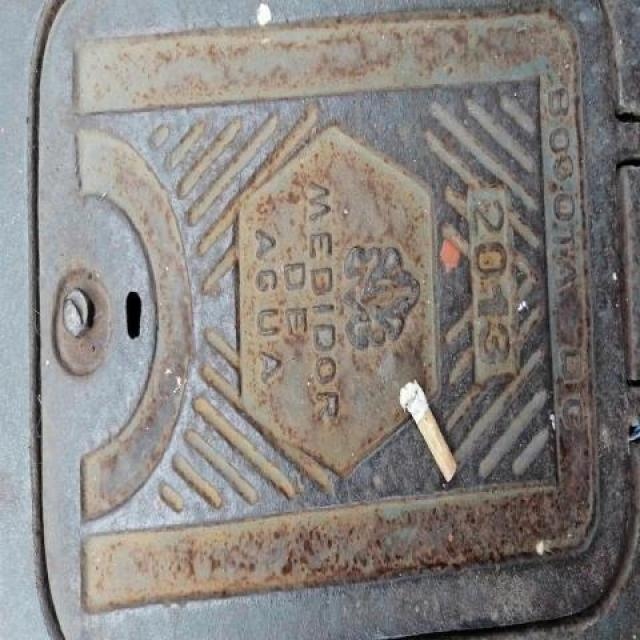non-organic waste: (395, 374, 460, 489)
